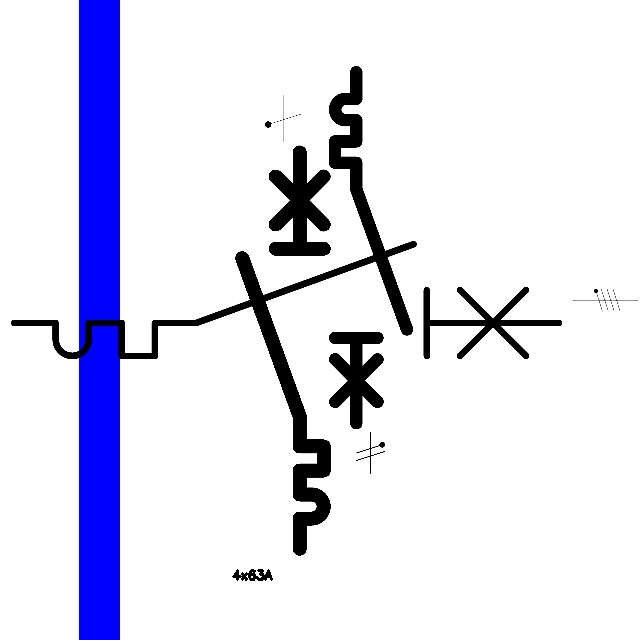interruptor_termomagnetico: (0, 230, 573, 370), (232, 142, 334, 559), (326, 63, 416, 432)
